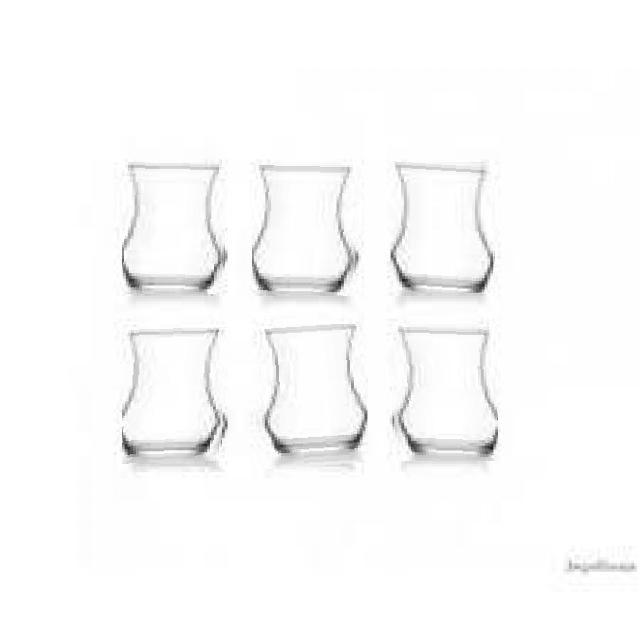Glass: (248, 324, 368, 470), (388, 324, 498, 462), (122, 328, 230, 464), (252, 162, 360, 296), (388, 158, 494, 294), (122, 160, 228, 294)
